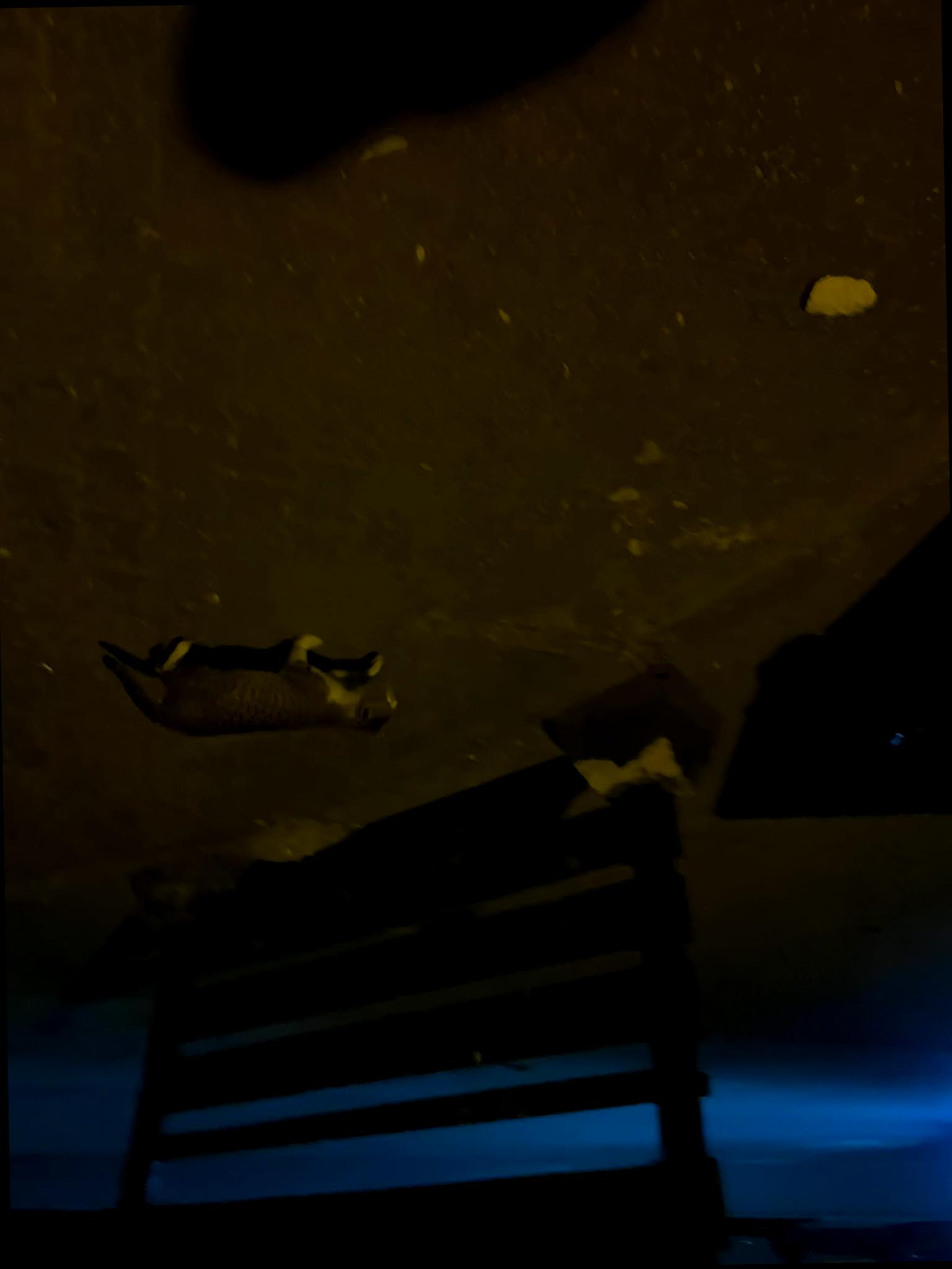macka: (99, 632, 399, 748)
